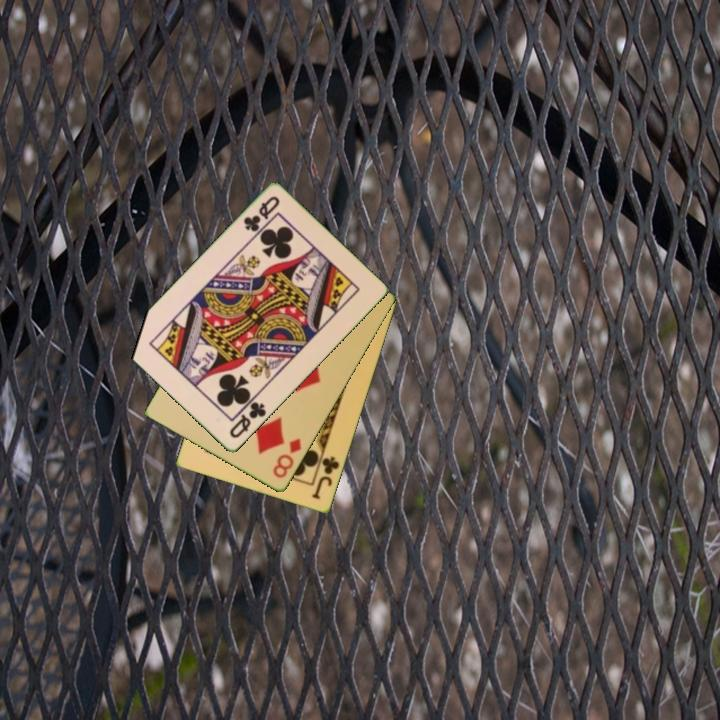8d: (269, 435, 304, 481)
Jc: (308, 453, 343, 503)
Qc: (226, 399, 269, 442), (240, 193, 283, 235)
